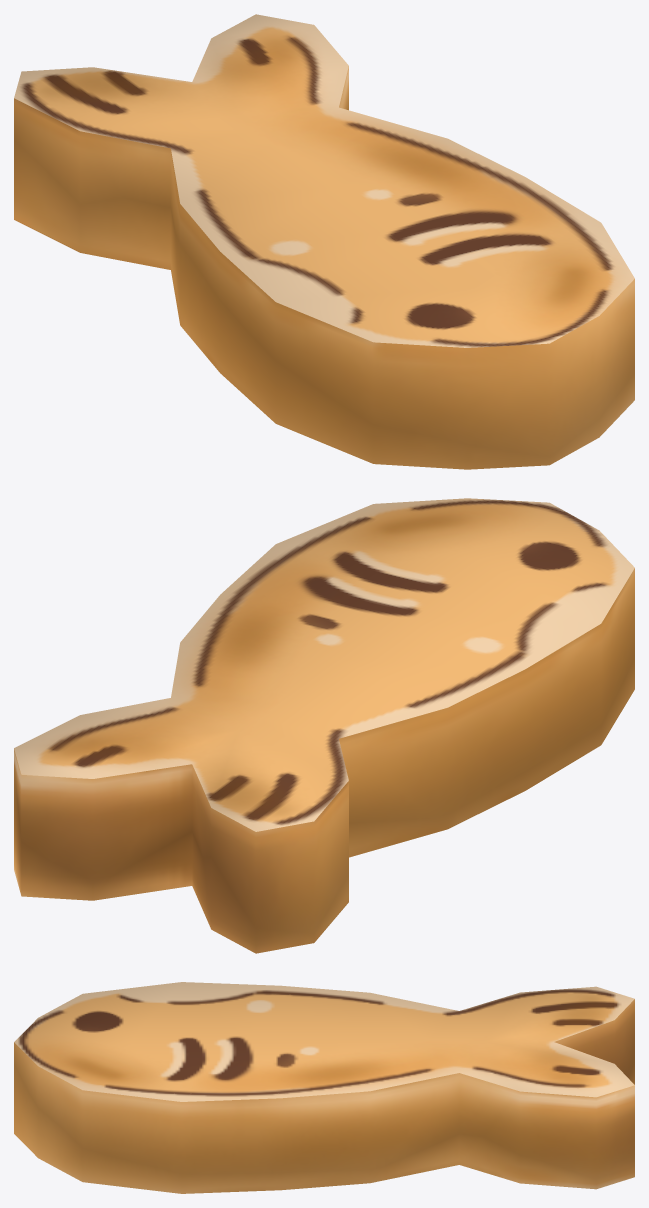
The model's file is FishBiscuit.glb.
3 views of the same model, one above another, from view 1: azimuth 30°, elevation 25°; view 2: azimuth 150°, elevation 25°; view 3: azimuth 270°, elevation 25° (orthographic). The views are drawn at different scales.
Parts seen in each view (by area): view 1: Cube.003; view 2: Cube.003; view 3: Cube.003.
Boxes of the visible parts, x1,y1,x2,y2 form: Cube.003: [14, 14, 634, 469]; Cube.003: [14, 498, 634, 953]; Cube.003: [14, 982, 634, 1193].
Bounding box in the file's own units: 0.4718 × 0.1685 × 1.03.
1 material, 1 textured.
